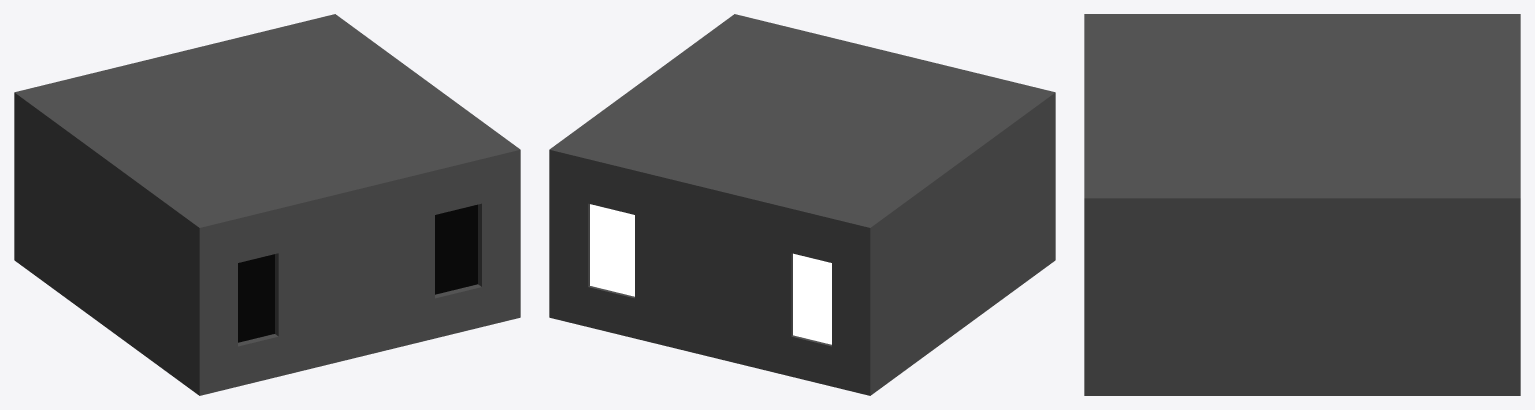
The model's file is Immeuble1Milieu2.fbx.
The picture shows the model from 3 angles, left to right: view 1: azimuth 30°, elevation 25°; view 2: azimuth 150°, elevation 25°; view 3: azimuth 270°, elevation 25°; orthographic projection. The views are drawn at different scales.
Parts seen in each view (by area): view 1: Cube.025; view 2: Cube.025; view 3: Cube.025.
Boxes of the visible parts, x1,y1,x2,y2 form: Cube.025: (14, 14, 520, 395); Cube.025: (549, 14, 1055, 395); Cube.025: (1084, 14, 1520, 395).
Bounding box in the file's own units: 2000 × 1000 × 2000.
